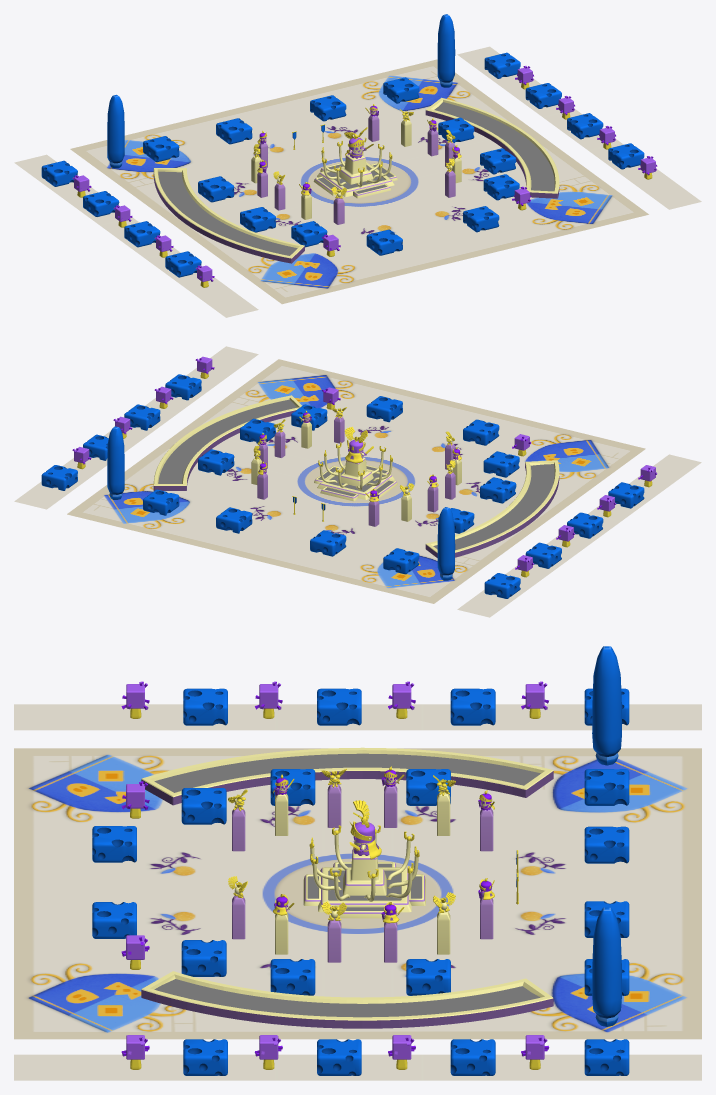
File: PalaceCountryard.fbx
The picture shows the model from 3 angles, top to bottom: view 1: azimuth 30°, elevation 25°; view 2: azimuth 150°, elevation 25°; view 3: azimuth 270°, elevation 25°; orthographic projection. The views are drawn at different scales.
Visible parts, largest first — view 1: FloorBig, Monuments, GreeneryRight, GroundLeft, GroundRight, GreeneryLeft, BushesBack, Bushes1, Bushes2, FountainCentral, Water2, Fountain1 (+6 smaller); view 2: FloorBig, GroundLeft, Monuments, GroundRight, GreeneryLeft, GreeneryRight, BushesBack, FountainCentral, Bushes2, Bushes1, Water2, Water1 (+6 smaller); view 3: FloorBig, GroundLeft, GroundRight, Monuments, GreeneryRight, GreeneryLeft, Fountain2, Bushes2, FountainCentral, Fountain1, Bushes1, Water2 (+6 smaller).
Part boxes in pixels (box(x1,y1,x2,y2)): FloorBig: box(70, 59, 648, 304); Monuments: box(251, 104, 461, 224); GreeneryRight: box(484, 52, 657, 179); GroundLeft: box(14, 154, 258, 317); GroundRight: box(457, 46, 701, 209); GreeneryLeft: box(41, 160, 214, 287); BushesBack: box(143, 77, 419, 162); Bushes1: box(198, 176, 402, 255); Bushes2: box(438, 117, 519, 232); FountainCentral: box(313, 127, 397, 198); Water2: box(434, 102, 554, 191); Fountain1: box(153, 168, 304, 263); FloorBig: box(67, 359, 645, 603); GroundLeft: box(457, 454, 701, 617); Monuments: box(251, 407, 461, 526); GroundRight: box(14, 346, 258, 509); GreeneryLeft: box(484, 465, 657, 598); GreeneryRight: box(41, 356, 214, 490); BushesBack: box(143, 489, 419, 574); FountainCentral: box(314, 426, 397, 501); Bushes2: box(198, 396, 402, 475); Bushes1: box(438, 419, 519, 533); Water2: box(158, 399, 296, 483); Water1: box(433, 464, 554, 550); FloorBig: box(14, 748, 701, 1039); GroundLeft: box(14, 704, 701, 730); GroundRight: box(14, 1054, 701, 1080); Monuments: box(228, 766, 494, 962); GreeneryRight: box(121, 1035, 629, 1075); GreeneryLeft: box(121, 681, 629, 725); Fountain2: box(141, 971, 553, 1028); Bushes2: box(92, 902, 450, 995); FountainCentral: box(303, 800, 425, 918); Fountain1: box(141, 747, 553, 805); Bushes1: box(92, 769, 450, 862); Water2: box(154, 979, 539, 1017).
Size of the model in its own units: 7236 by 1037 by 5588.
